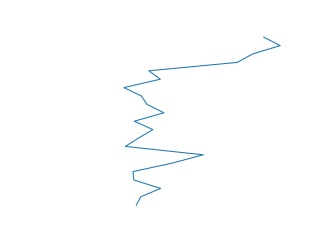crevasseRiverChannelBar: (120, 34, 287, 208)
